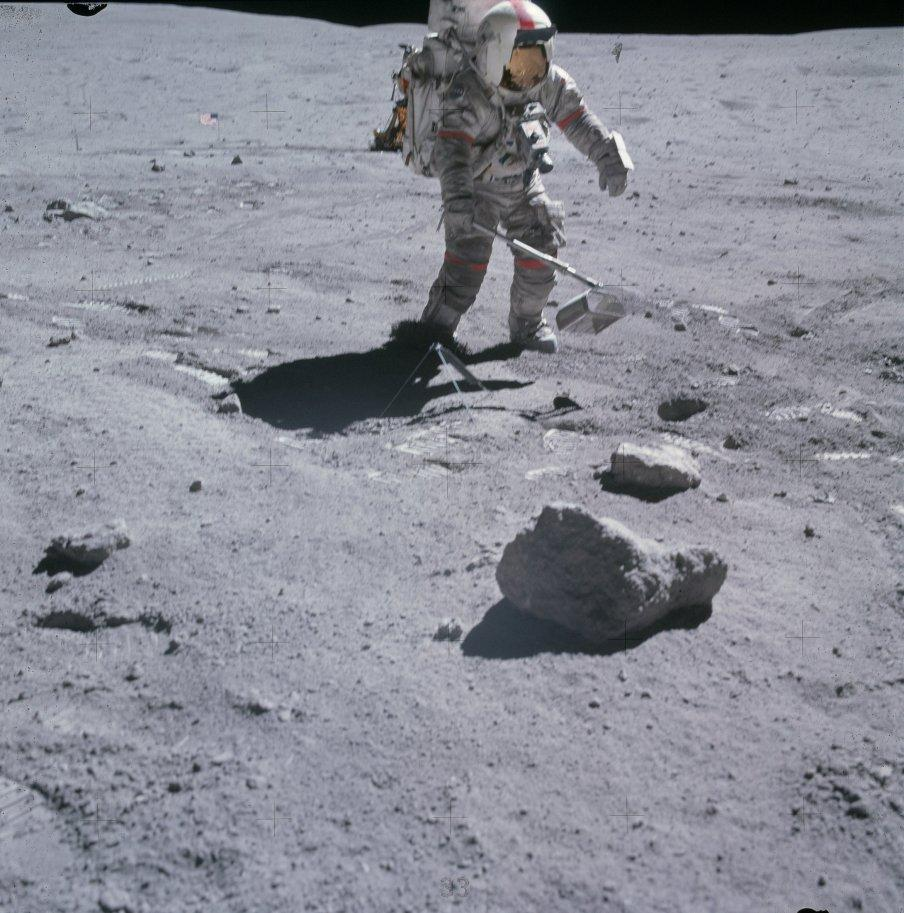rock: (498, 503, 728, 644), (599, 442, 701, 501)
